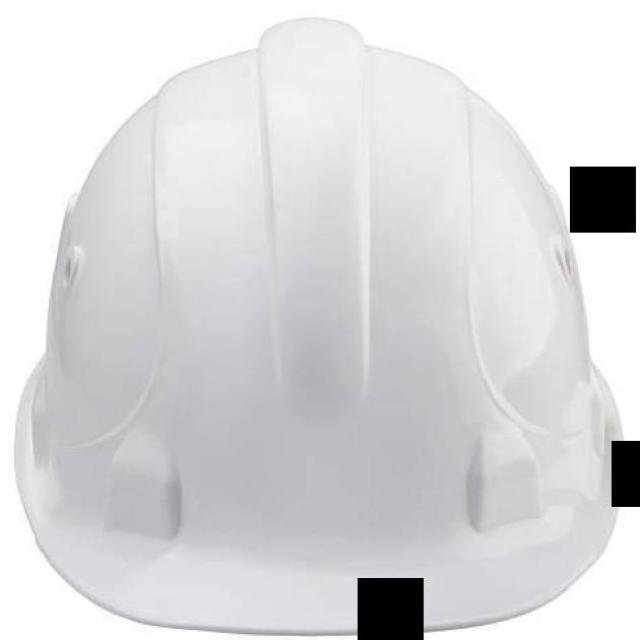white helmet: (16, 24, 619, 620)
